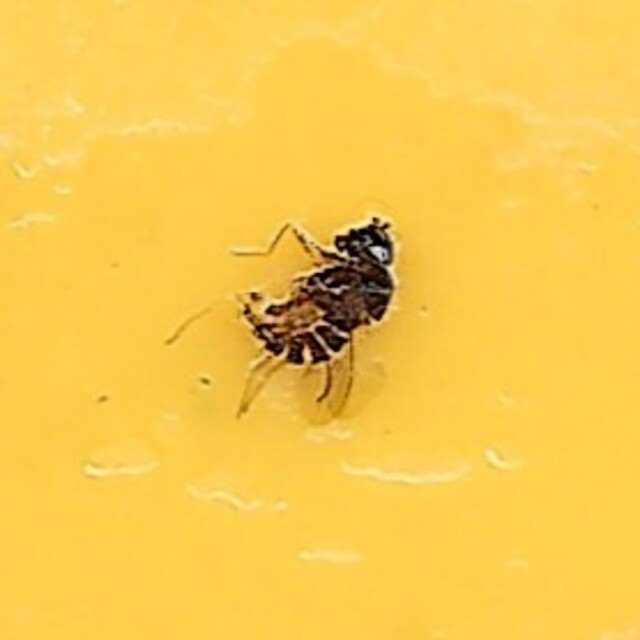Brachycera: (230, 220, 410, 420)
